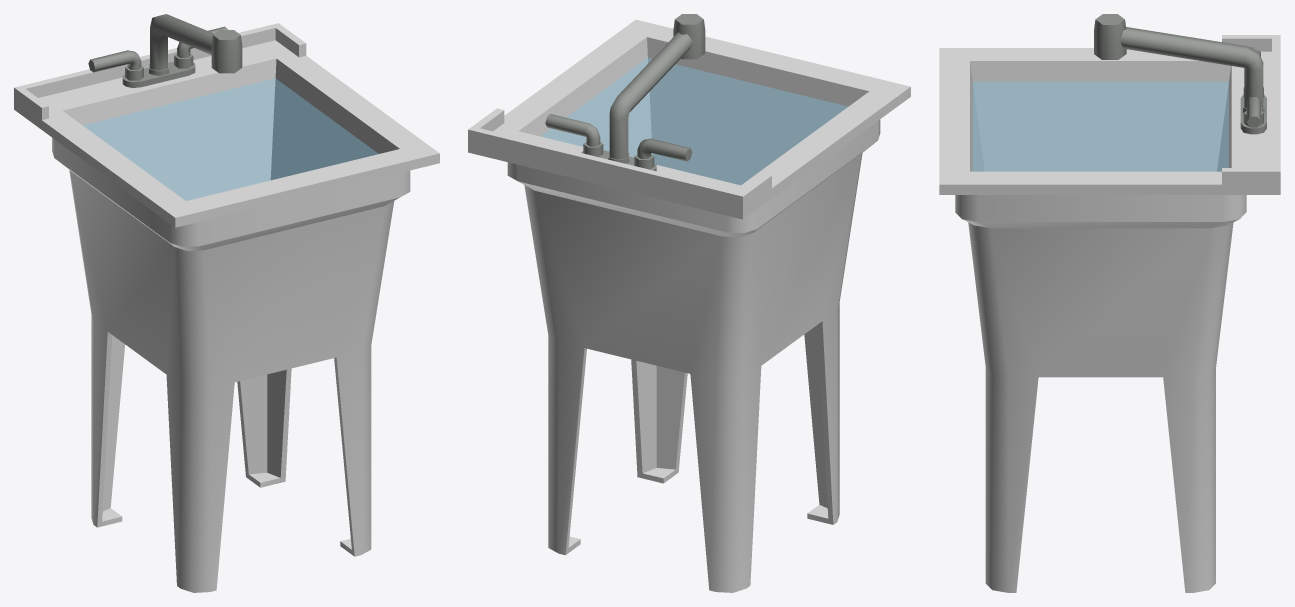
The model's file is Sink.gltf.
3 views of the same model, side by side, from view 1: azimuth 30°, elevation 25°; view 2: azimuth 150°, elevation 25°; view 3: azimuth 270°, elevation 25° (orthographic). The views are drawn at different scales.
Visible parts, largest first — view 1: Cube; view 2: Cube; view 3: Cube.
Part boxes in pixels (bbox=[...]): Cube: bbox=[14, 14, 439, 592]; Cube: bbox=[468, 14, 910, 592]; Cube: bbox=[939, 14, 1280, 592].
Bounding box in the file's own units: 8.88 × 15.91 × 9.38.
1 material, 1 textured.
